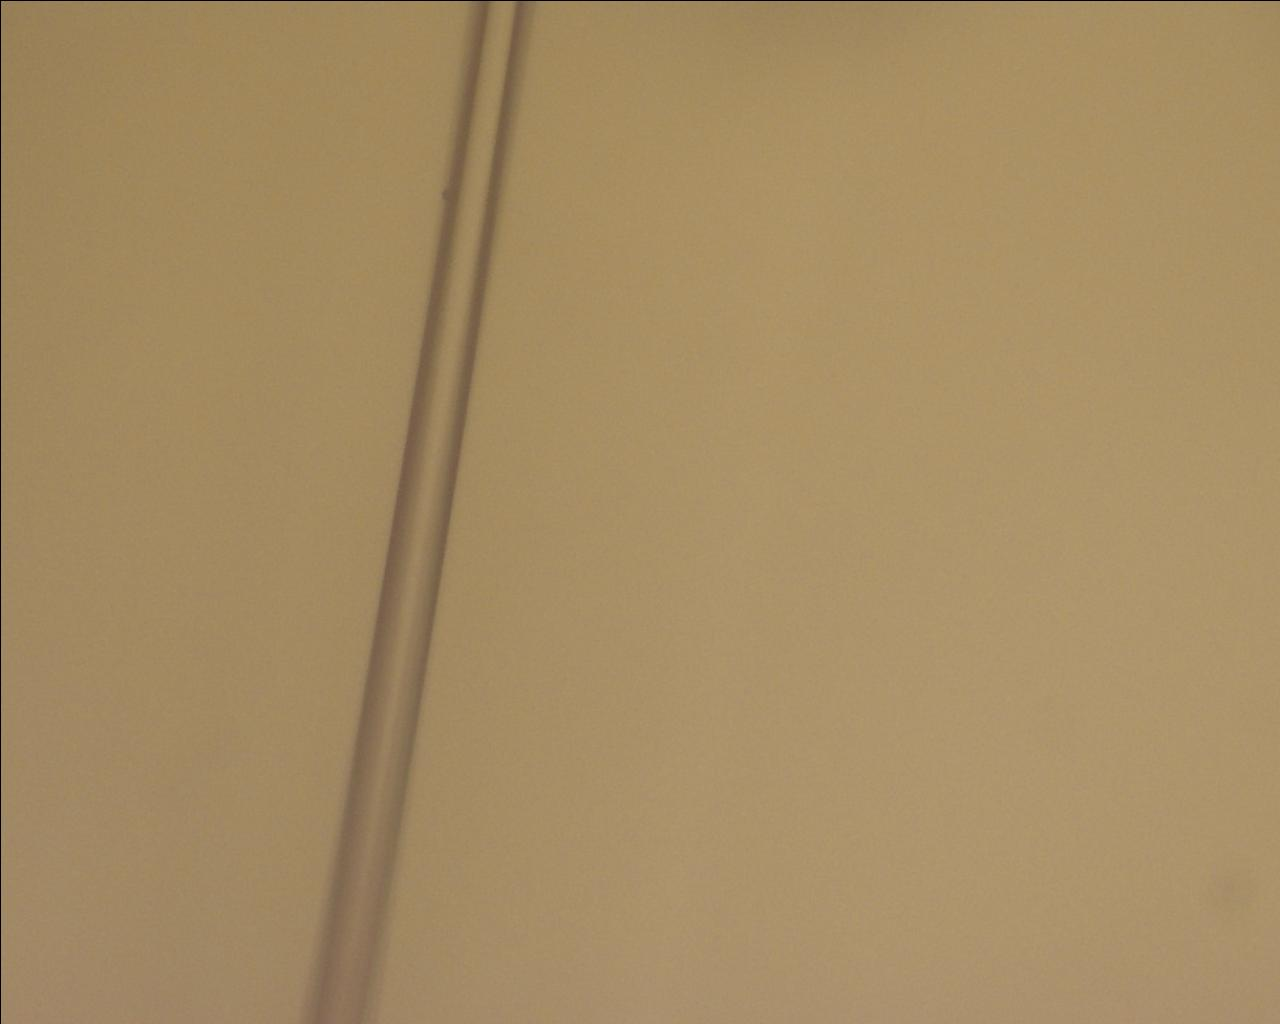fiber: (499, 237, 1280, 604), (233, 604, 402, 1016), (499, 806, 1240, 885), (0, 15, 499, 118)
